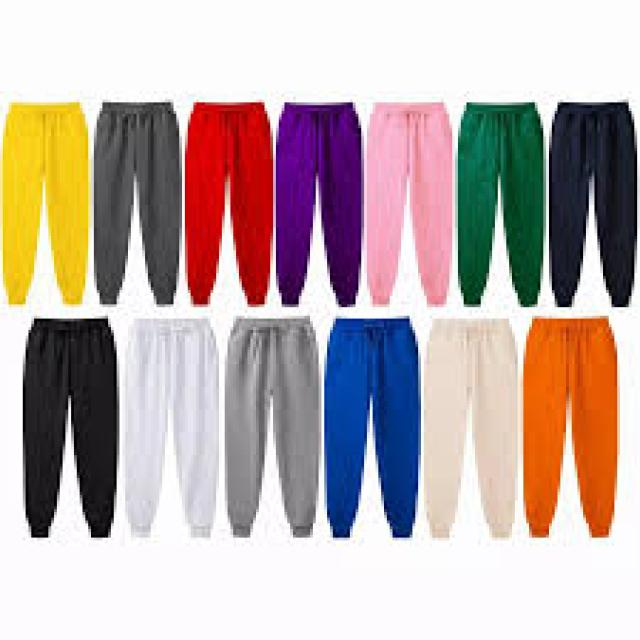long-pants: (520, 317, 620, 538), (22, 318, 120, 540), (120, 317, 218, 538), (420, 320, 519, 538), (324, 317, 421, 538), (226, 317, 322, 537), (185, 102, 276, 306), (1, 98, 90, 306), (456, 102, 546, 306), (276, 101, 364, 308), (550, 101, 637, 308), (95, 100, 181, 306), (367, 102, 453, 308)
